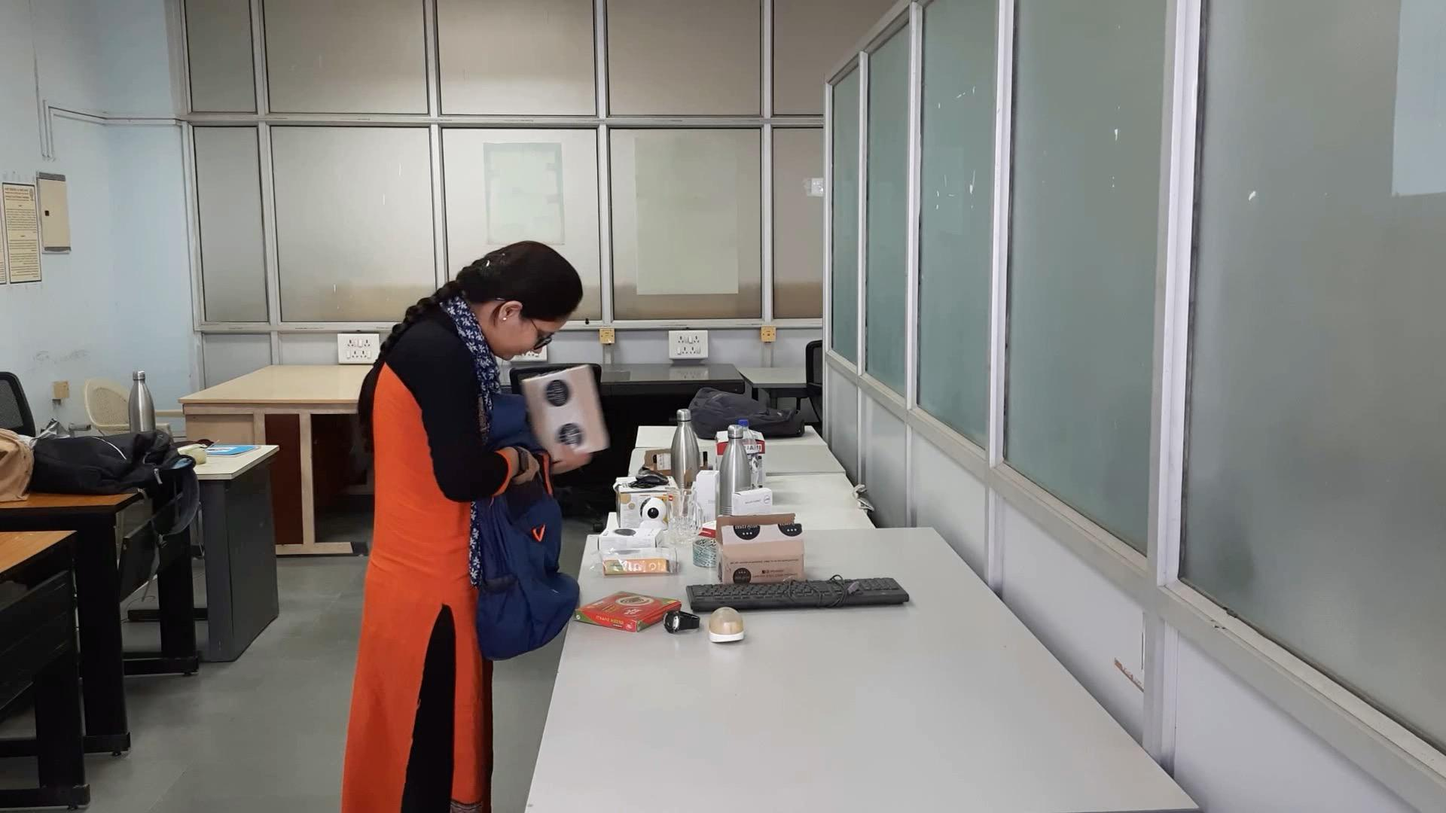shoplifting: (309, 345, 667, 647)
